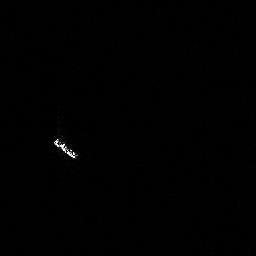ship: (50, 135, 81, 160)
